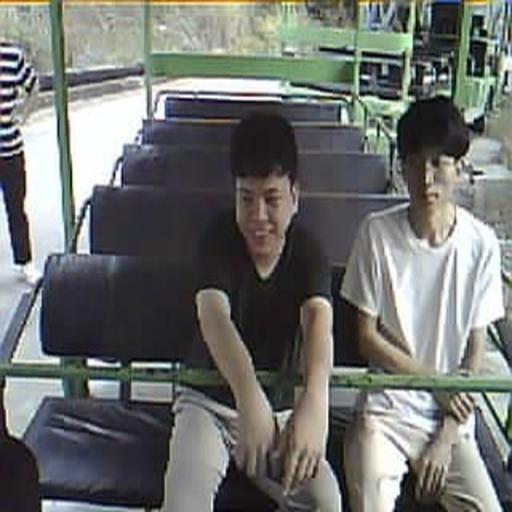persona: (164, 112, 342, 512), (341, 95, 507, 512)
